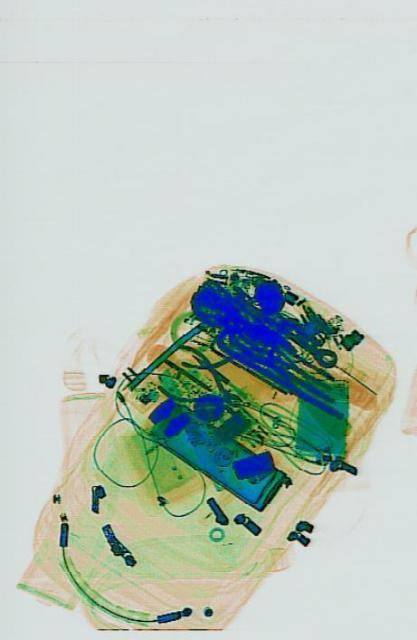Pliers: (156, 334, 249, 432)
Wrench: (276, 317, 336, 371)
